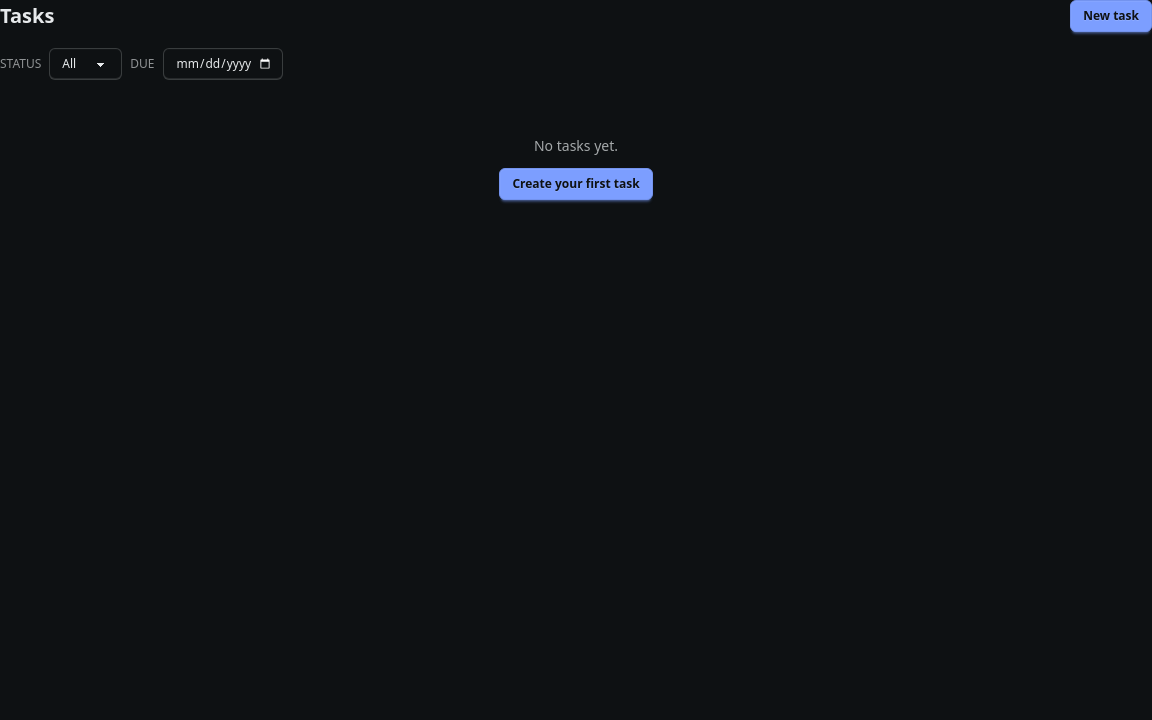
Test: TasksPage › offers the create CTA when no tasks exist yet
Expected: the text "No tasks yet." is shown, [534, 136, 618, 156]
Click the button "Create your first task": (576, 184) [499, 168, 653, 200]
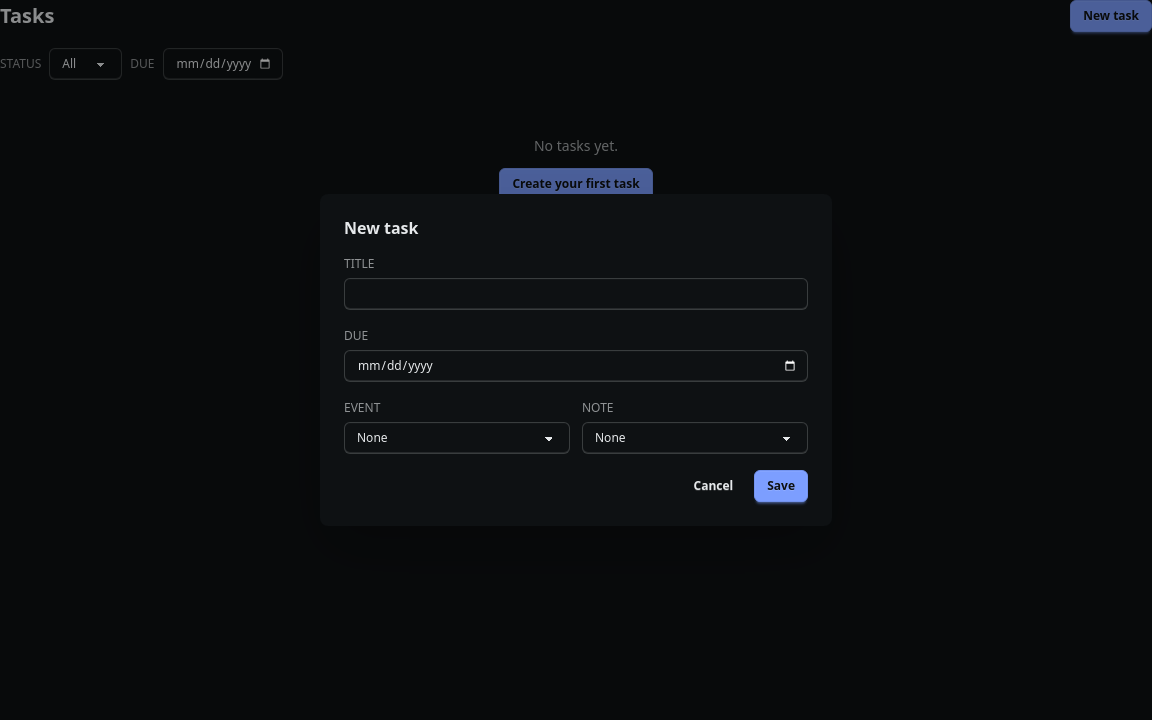
Result: the heading "New task" is shown at [344, 217, 418, 239]
